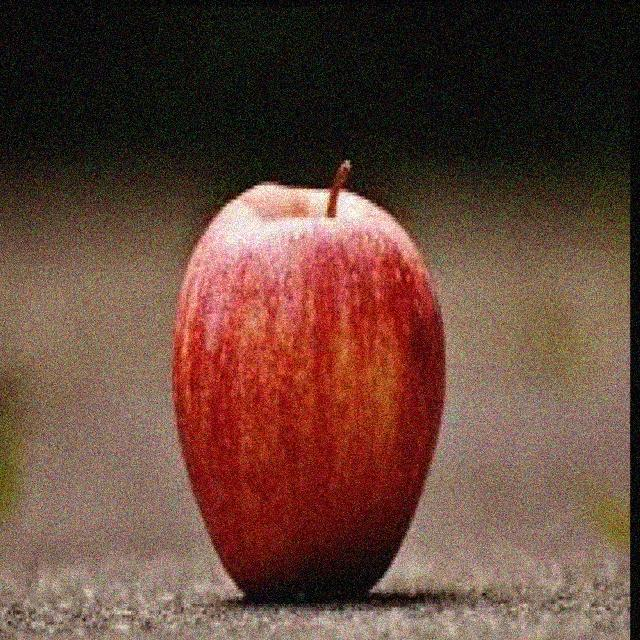red apple: (170, 173, 447, 600)
